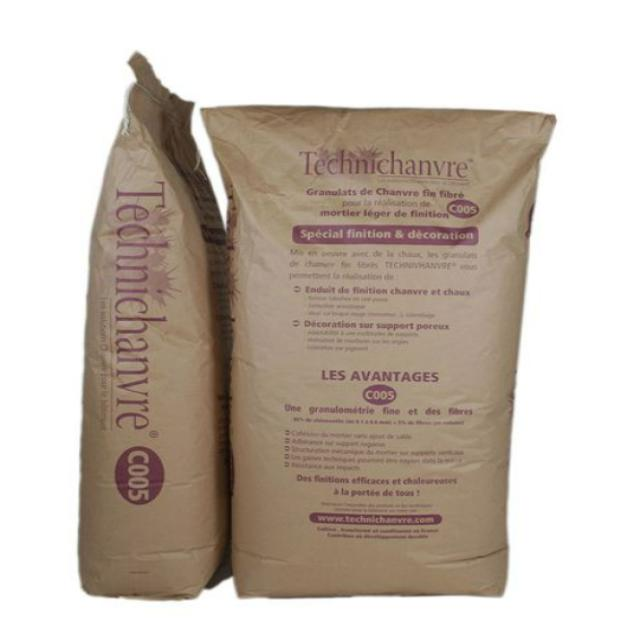KantongSemen: (199, 101, 557, 600), (76, 49, 230, 601)
